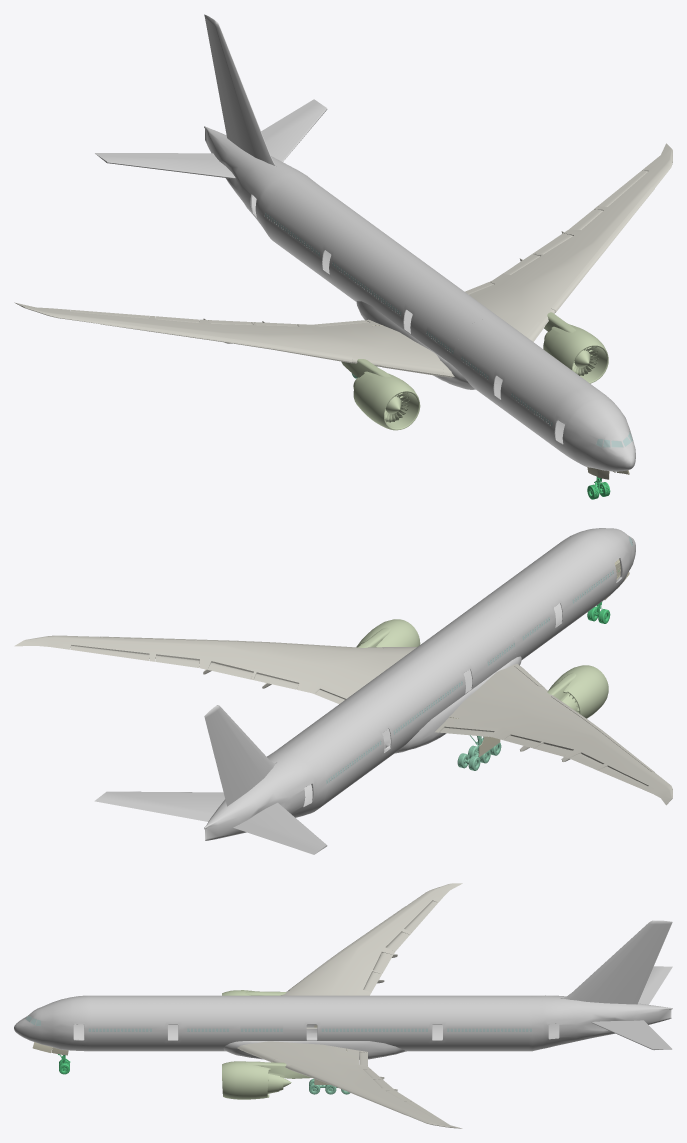
The model's file is Fuselage.fbx.
3 renders of one model, top to bottom at view 1: azimuth 30°, elevation 25°; view 2: azimuth 150°, elevation 25°; view 3: azimuth 270°, elevation 25°, orthographic. The views are drawn at different scales.
Visible parts, largest first — view 1: Fuselage_2, Windows; view 2: Fuselage_2, Windows; view 3: Fuselage_2, Windows.
Part boxes in pixels (x1=…): Fuselage_2: x1=14, y1=14, x2=672, y2=471; Windows: x1=265, y1=212, x2=632, y2=447; Fuselage_2: x1=14, y1=528, x2=672, y2=854; Windows: x1=326, y1=537, x2=632, y2=783; Fuselage_2: x1=14, y1=883, x2=672, y2=1128; Windows: x1=25, y1=1015, x2=531, y2=1031.
Size of the model in its own units: 6479 by 1861 by 7353.
